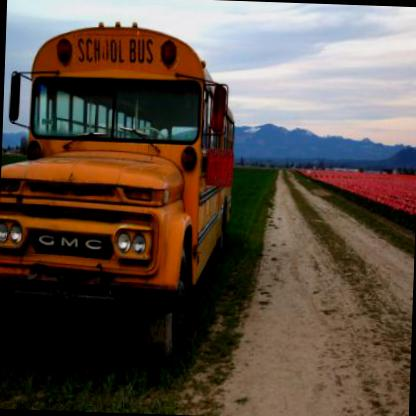bus: (0, 13, 242, 378)
